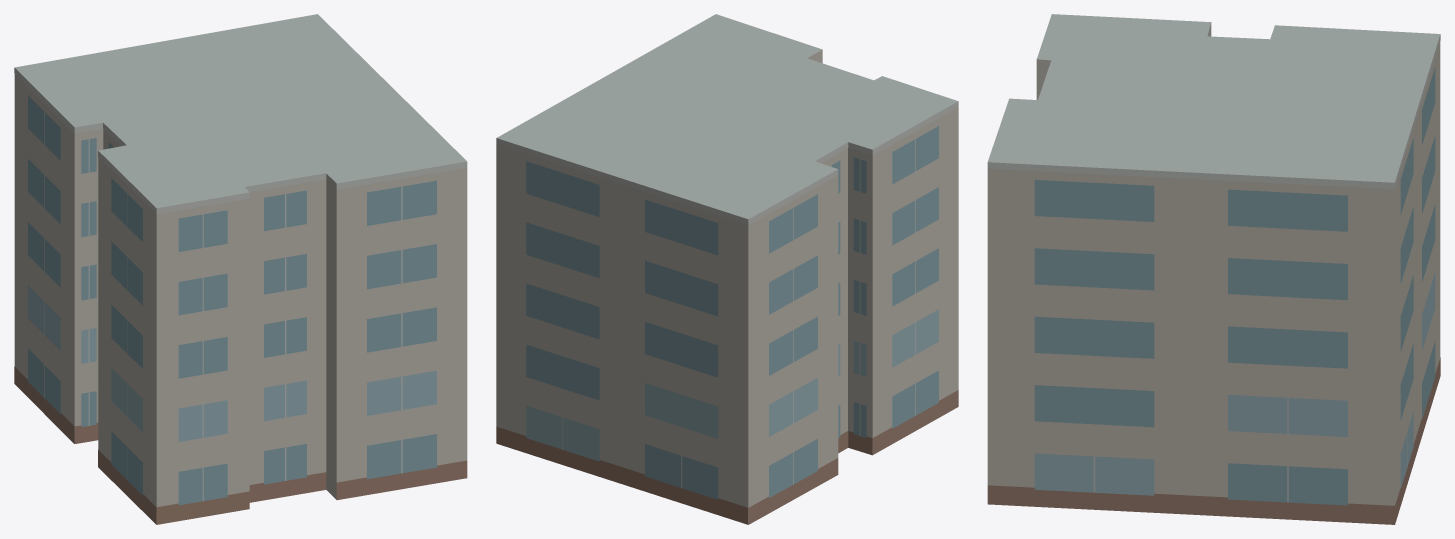
File: survey-upis-32659149.glb
3 views of the same model, side by side, from view 1: azimuth 30°, elevation 25°; view 2: azimuth 150°, elevation 25°; view 3: azimuth 270°, elevation 25° (orthographic). The views are drawn at different scales.
Visible parts, largest first — view 1: survey-upis-32659149.tmp; view 2: survey-upis-32659149.tmp; view 3: survey-upis-32659149.tmp.
Part boxes in pixels (<box>): survey-upis-32659149.tmp: <box>14,14,467,524</box>; survey-upis-32659149.tmp: <box>496,14,958,524</box>; survey-upis-32659149.tmp: <box>987,14,1440,524</box>.
Bounding box in the file's own units: 13.58 × 12.82 × 15.4.
